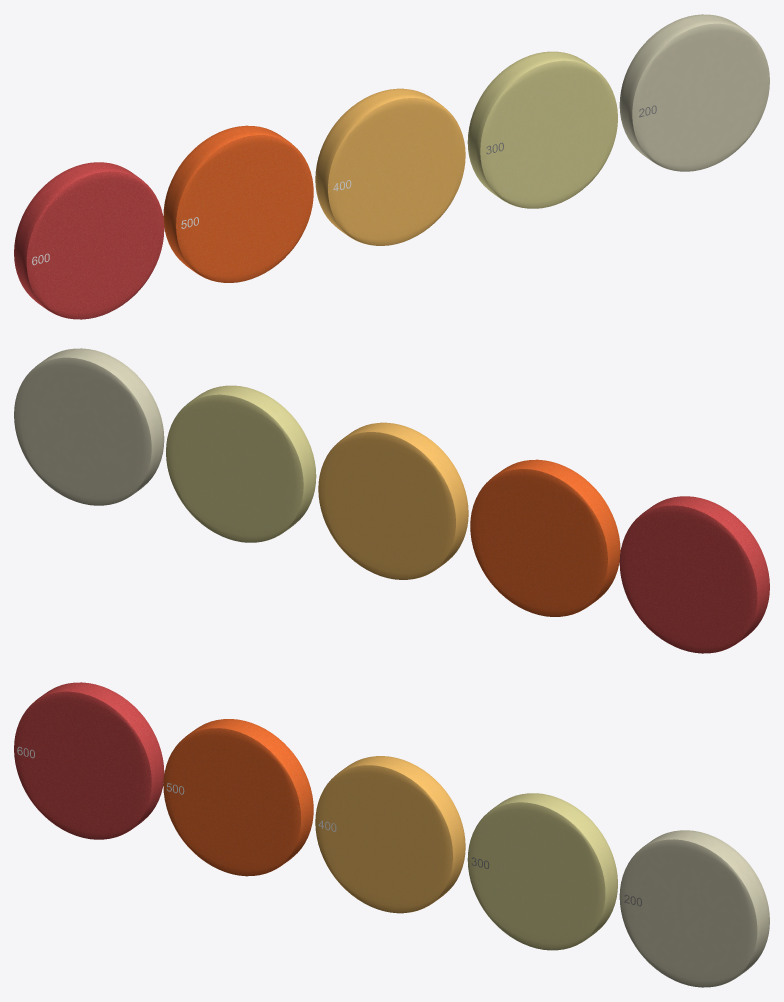
The model's file is branding-transformed.glb.
3 renders of one model, top to bottom at view 1: azimuth 30°, elevation 25°; view 2: azimuth 150°, elevation 25°; view 3: azimuth 330°, elevation 25°, orthographic.
Visible parts, largest first — view 1: Cylinder5, Cylinder1, Cylinder4, Cylinder2, Cylinder3; view 2: Cylinder5, Cylinder1, Cylinder3, Cylinder2, Cylinder4; view 3: Cylinder1, Cylinder5, Cylinder3, Cylinder2, Cylinder4.
Boxes of the visible parts, box(x1,y1,x2,y2) form: Cylinder5: box(619, 14, 769, 171); Cylinder1: box(14, 162, 164, 319); Cylinder4: box(467, 51, 617, 208); Cylinder2: box(163, 125, 313, 282); Cylinder3: box(315, 88, 465, 245); Cylinder5: box(14, 348, 164, 505); Cylinder1: box(619, 496, 769, 653); Cylinder3: box(318, 422, 468, 579); Cylinder2: box(470, 459, 620, 616); Cylinder4: box(166, 385, 316, 542); Cylinder1: box(14, 682, 164, 839); Cylinder5: box(619, 830, 769, 987); Cylinder3: box(315, 756, 465, 913); Cylinder2: box(163, 719, 313, 876); Cylinder4: box(467, 793, 617, 950).
Bounding box in the file's own units: 2.8 × 0.5238 × 0.092.
Materials: 7 (5 with a texture image).
